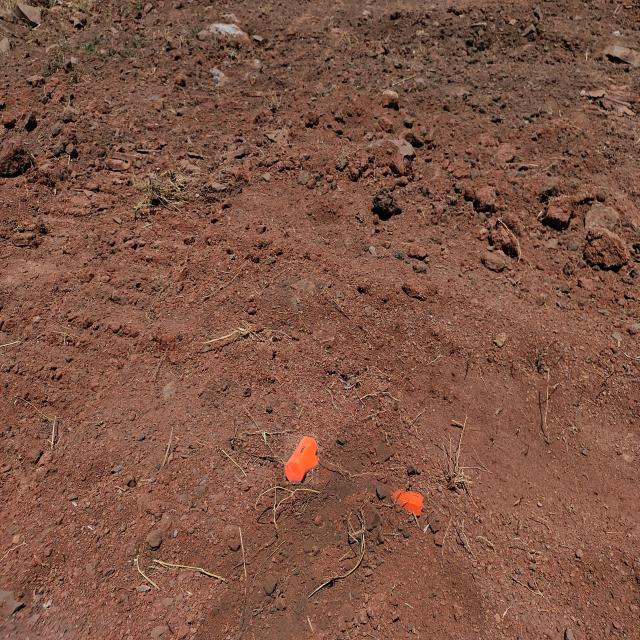Orange_hammer: (284, 434, 319, 484)
